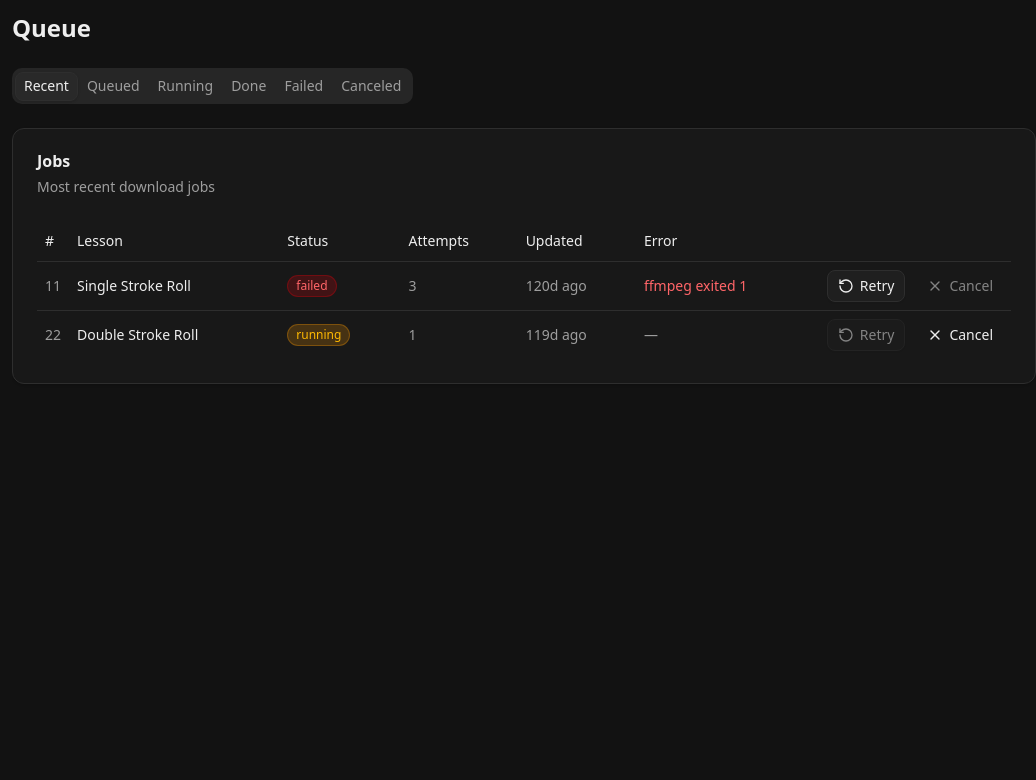
retries a failed job (202) and shows a success toast
This screenshot has width=1036, height=780.
Check: the text "Single Stroke Roll" is shown, box [69,261,279,310]
Step 1. Click the button "Retry" in the row of "Single Stroke Roll" → (866,286), box [827,270,905,302]
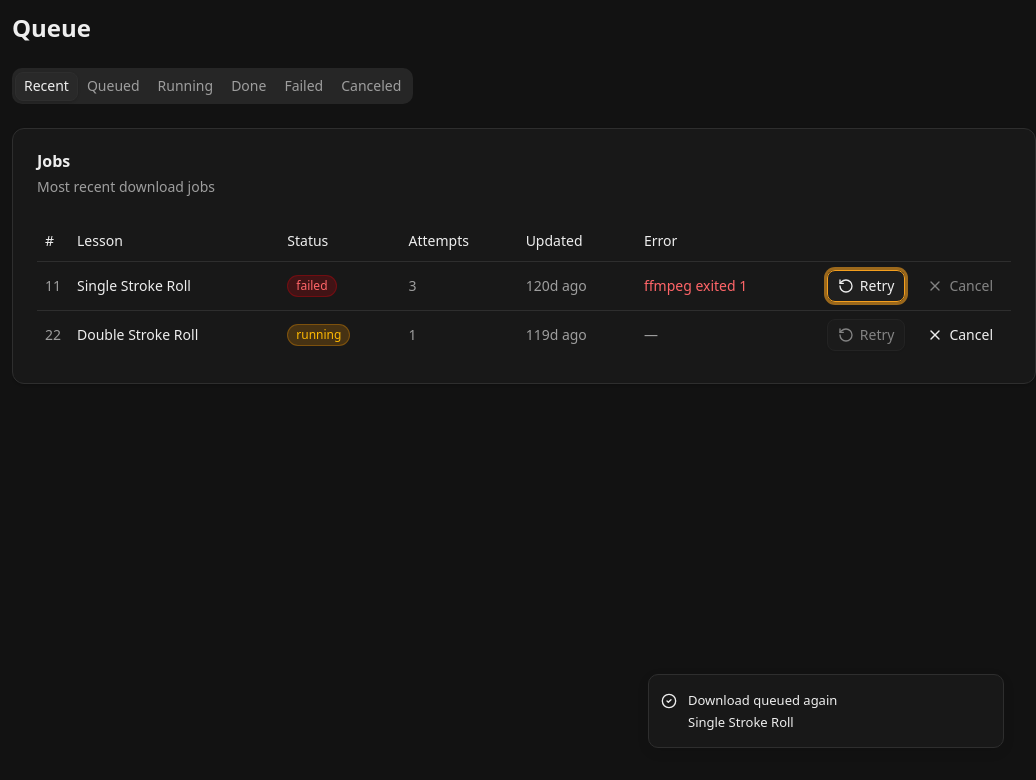
Check: the text "Single Stroke Roll" is shown, box [688,713,794,731]
